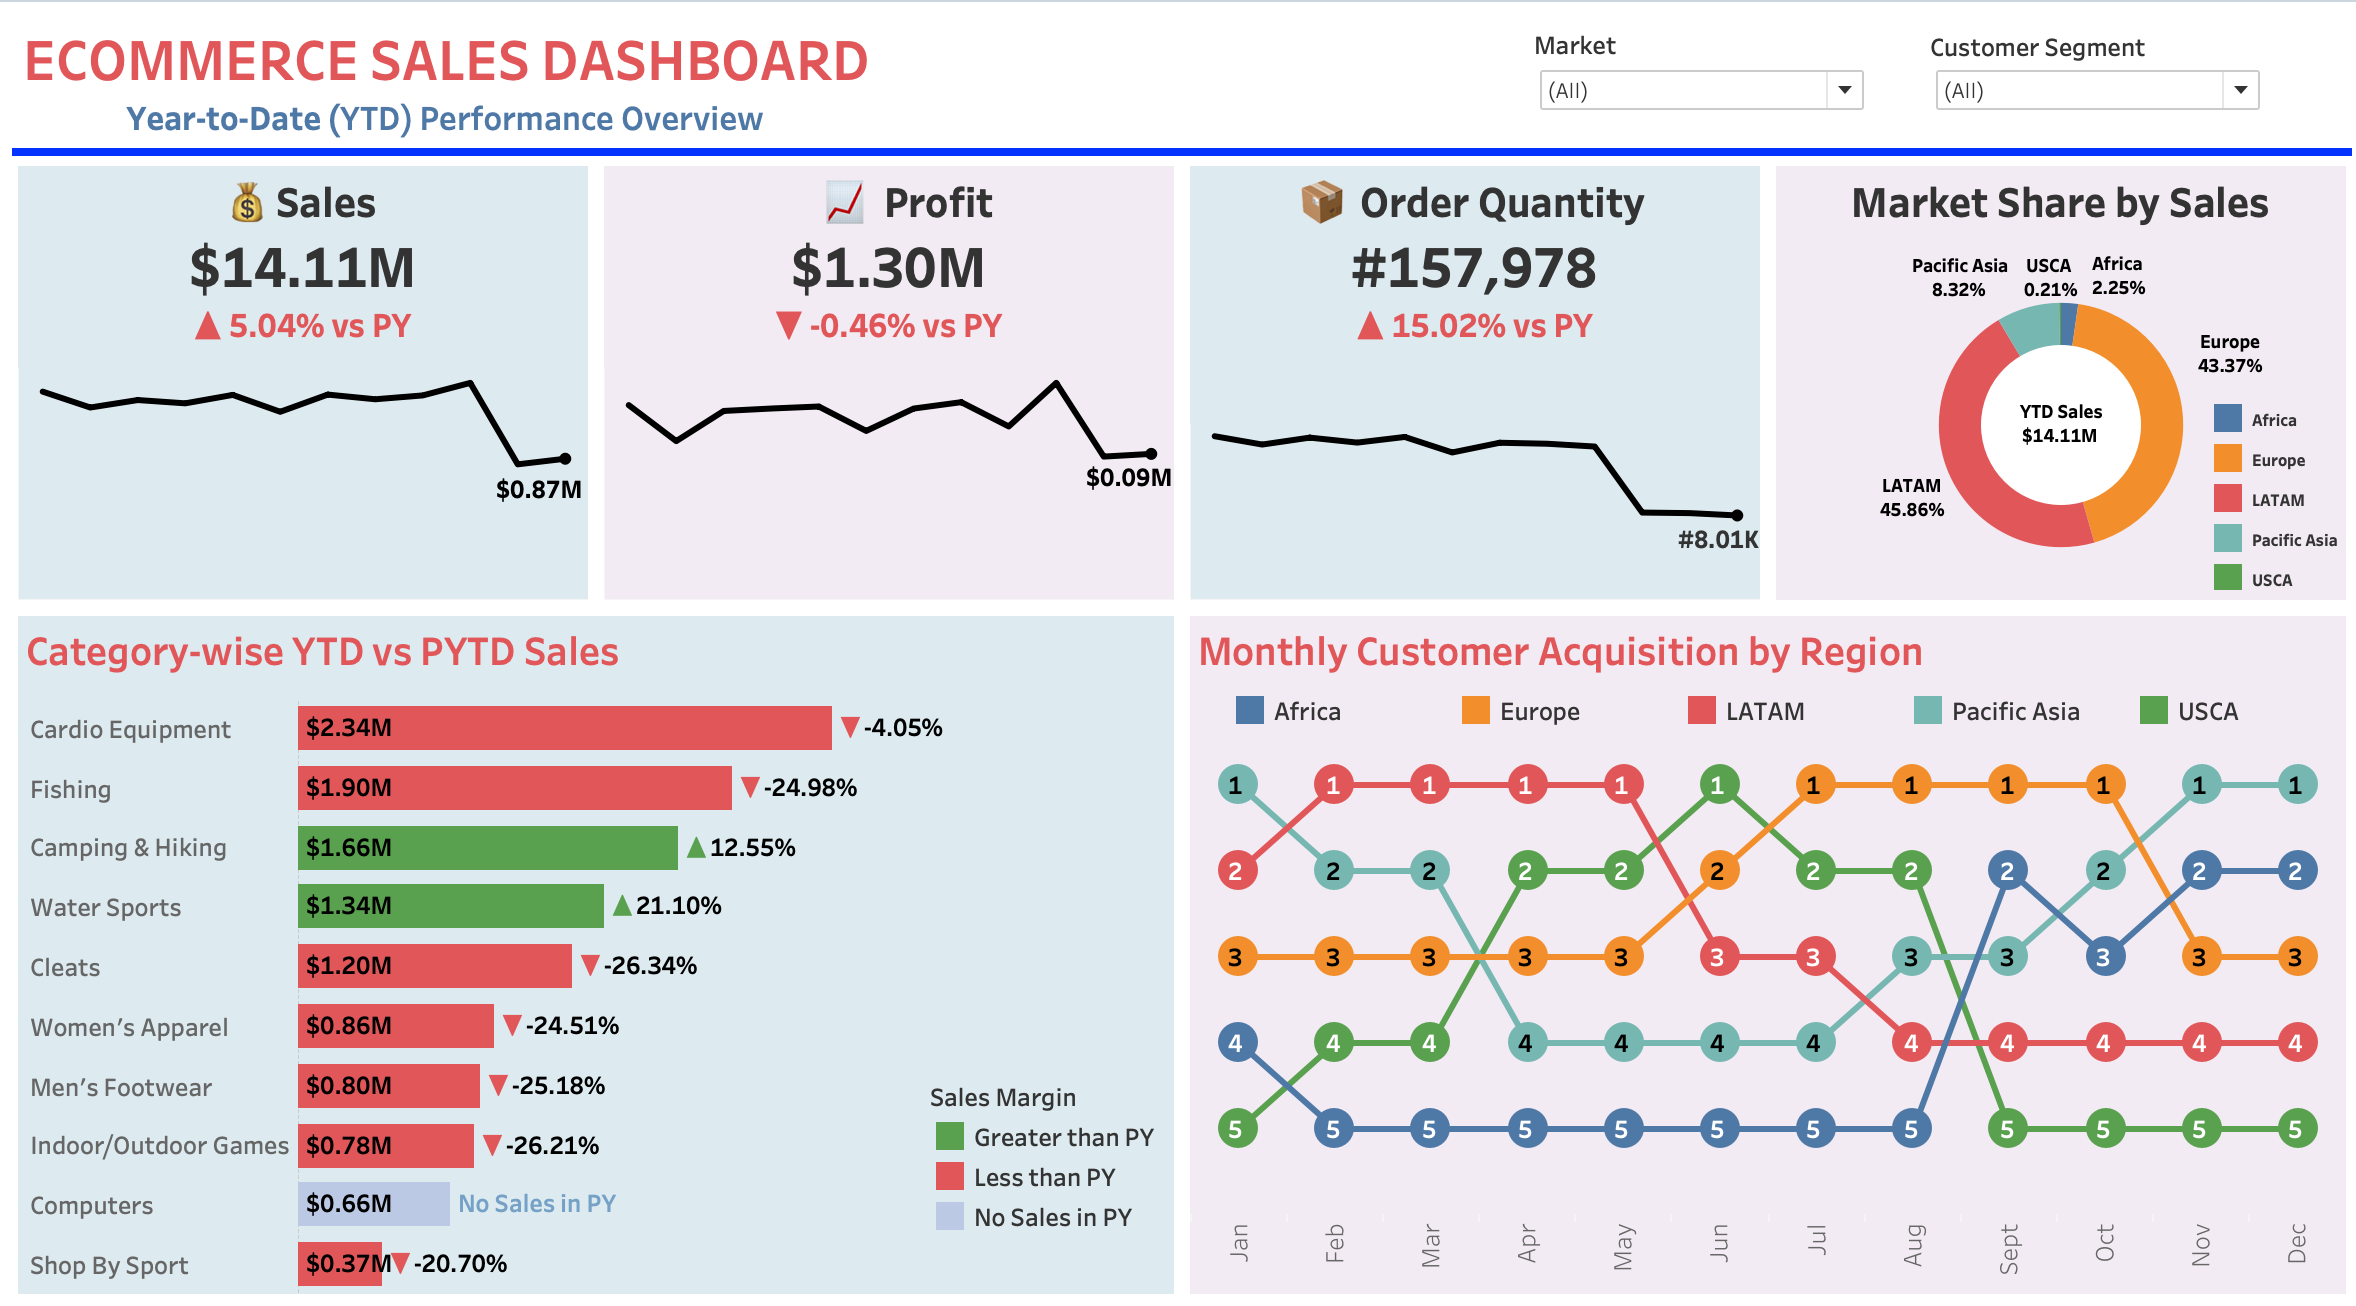

The dashboard page shown, as its layout file describes it:
{"tool":"tableau","page":{"name":"Dashboard 1","canvas":[1220,660],"ordinal":0},"visuals":[{"type":"title","box":[8,8,1172,66]},{"type":"filter","title":"Sales KPI","param":"[federated.05s2hs50erfvrz1cswz1y079474u].[none:Market:nk]","box":[770,15,168,49]},{"type":"filter","title":"Sales KPI","param":"[federated.05s2hs50erfvrz1cswz1y079474u].[none:Customer Segment:nk]","box":[968,16,168,42]},{"type":"blank","box":[8,74,1172,6]},{"type":"worksheet","title":"Sales KPI","mark":"Automatic","rows":["Sales"],"cols":["Order Date"],"box":[8,80,293,225]},{"type":"worksheet","title":"Profit KPI","mark":"Automatic","rows":["Profit Per Order"],"cols":["Order Date"],"box":[301,80,293,225]},{"type":"worksheet","title":"Order Quantity KPI","mark":"Automatic","rows":["Order Quantity"],"cols":["Order Date"],"box":[594,80,293,225]},{"type":"worksheet","title":"Market Share by Sales","mark":"Pie","cols":["Calculation_1936829329136680967","Calculation_1936829329136775177"],"box":[887,80,293,225]},{"type":"legend","title":"Market Share by Sales","param":"[federated.05s2hs50erfvrz1cswz1y079474u].[none:Market:nk]","box":[1107,200,88,96]},{"type":"worksheet","title":"Category Wise YTD vs PYTD Sales","mark":"Bar","rows":["Category Name"],"cols":["YTD Sales LOD (copy)_1936829329137799178","YTD Sales LOD (copy)_1936829329137799178"],"box":[8,305,586,347]},{"type":"worksheet","title":"Market Wise Customer Aquisition Per Month","mark":"Automatic","cols":["Order Date"],"box":[594,305,586,347]},{"type":"legend","title":"Market Wise Customer Aquisition Per Month","param":"[federated.05s2hs50erfvrz1cswz1y079474u].[none:Market:nk]","box":[618,346,582,29]},{"type":"legend","title":"Category Wise YTD vs PYTD Sales","param":"[federated.05s2hs50erfvrz1cswz1y079474u].[usr:Calculation_2050052638532104194:nk","box":[468,541,141,83]}]}

Visuals, with their boxes in screenshot pixels (x1, y1, x2, y2), scaled from the page's 1220x660 canvas onto the 2356x1306 screenshot:
title: 15:16:2279:146
"Sales KPI" filter: 1487:30:1811:127
"Sales KPI" filter: 1869:32:2194:115
blank: 15:146:2279:158
"Sales KPI" worksheet: 15:158:581:604
"Profit KPI" worksheet: 581:158:1147:604
"Order Quantity KPI" worksheet: 1147:158:1713:604
"Market Share by Sales" worksheet (Pie marks): 1713:158:2279:604
"Market Share by Sales" legend: 2138:396:2308:586
"Category Wise YTD vs PYTD Sales" worksheet (Bar marks): 15:604:1147:1290
"Market Wise Customer Aquisition Per Month" worksheet: 1147:604:2279:1290
"Market Wise Customer Aquisition Per Month" legend: 1193:685:2317:742
"Category Wise YTD vs PYTD Sales" legend: 904:1071:1176:1235
